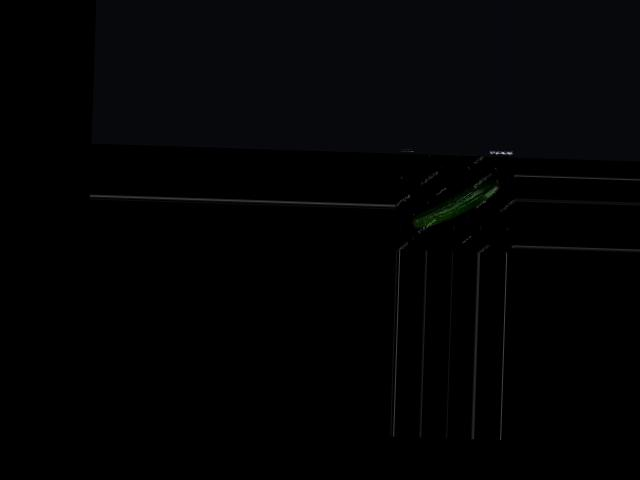cucumber: (411, 173, 499, 231)
